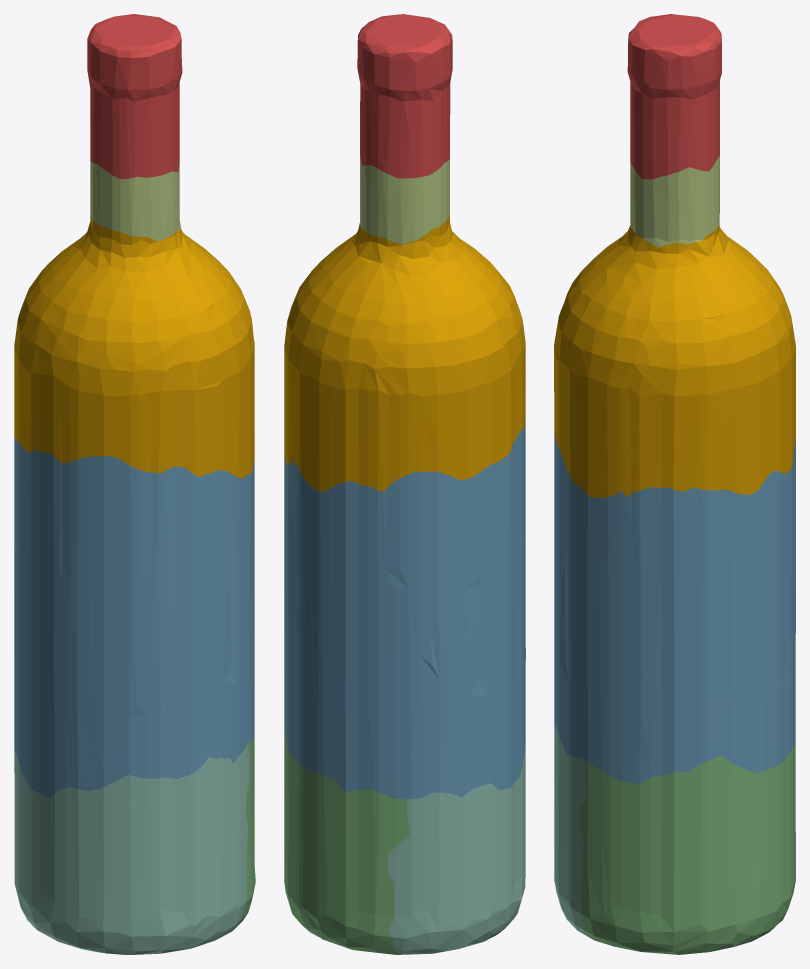
Rendered from fractured_58_6pcs.glb.
3 views of the same model, side by side, from view 1: azimuth 30°, elevation 25°; view 2: azimuth 150°, elevation 25°; view 3: azimuth 270°, elevation 25° (orthographic).
Visible parts, largest first — view 1: piece_2.obj, piece_0.obj, piece_4.obj, piece_1.obj, piece_5.obj, piece_3.obj; view 2: piece_2.obj, piece_0.obj, piece_4.obj, piece_3.obj, piece_1.obj, piece_5.obj; view 3: piece_2.obj, piece_0.obj, piece_3.obj, piece_1.obj, piece_5.obj, piece_4.obj.
Boxes of the visible parts, x1=… form: piece_2.obj: x1=14, y1=436, x2=254, y2=797; piece_0.obj: x1=14, y1=217, x2=254, y2=478; piece_4.obj: x1=14, y1=744, x2=248, y2=954; piece_1.obj: x1=87, y1=14, x2=182, y2=179; piece_5.obj: x1=90, y1=161, x2=180, y2=241; piece_3.obj: x1=238, y1=737, x2=255, y2=924; piece_2.obj: x1=284, y1=418, x2=525, y2=799; piece_0.obj: x1=284, y1=215, x2=525, y2=492; piece_4.obj: x1=387, y1=744, x2=525, y2=954; piece_3.obj: x1=284, y1=725, x2=409, y2=954; piece_1.obj: x1=357, y1=14, x2=452, y2=178; piece_5.obj: x1=359, y1=155, x2=449, y2=244; piece_2.obj: x1=554, y1=434, x2=795, y2=784; piece_0.obj: x1=554, y1=224, x2=795, y2=497; piece_3.obj: x1=580, y1=743, x2=795, y2=954; piece_1.obj: x1=627, y1=14, x2=721, y2=179; piece_5.obj: x1=630, y1=156, x2=719, y2=247; piece_4.obj: x1=554, y1=724, x2=585, y2=935.
Size of the model in its own units: 0.2492 by 1 by 0.2492.
